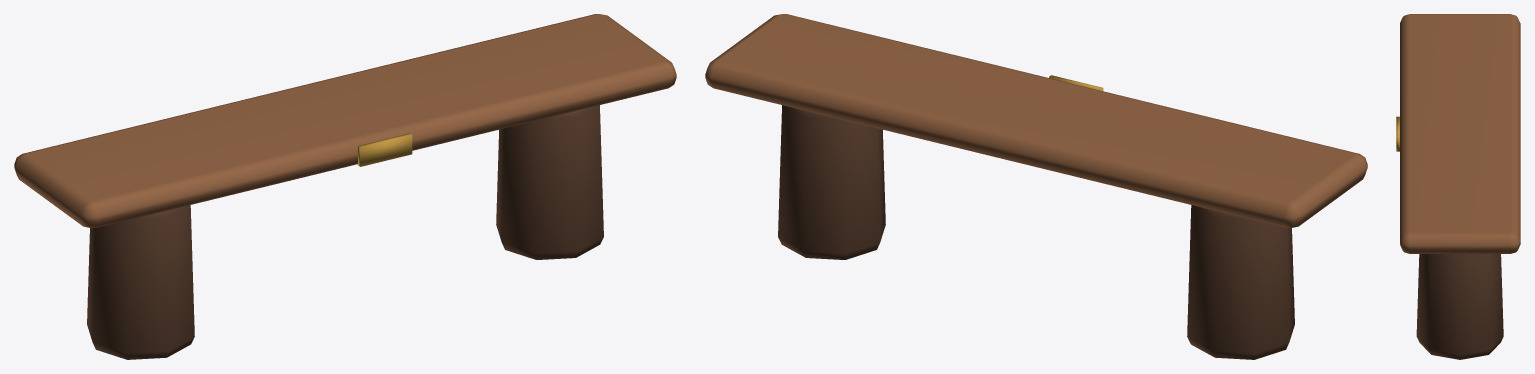
Rendered from lookout_bench.glb.
3 renders of one model, left to right at view 1: azimuth 30°, elevation 25°; view 2: azimuth 150°, elevation 25°; view 3: azimuth 270°, elevation 25°, orthographic. The views are drawn at different scales.
Parts seen in each view (by area): view 1: lookout_bench; view 2: lookout_bench; view 3: lookout_bench.
Boxes of the visible parts, left/top/right/bottom form: lookout_bench: left=14, top=14, right=676, bottom=359; lookout_bench: left=705, top=14, right=1367, bottom=359; lookout_bench: left=1396, top=14, right=1520, bottom=359.
Bounding box in the file's own units: 1.6 × 0.475 × 0.37.
